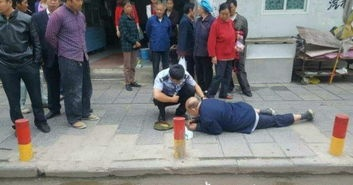falling: (181, 91, 316, 137)
